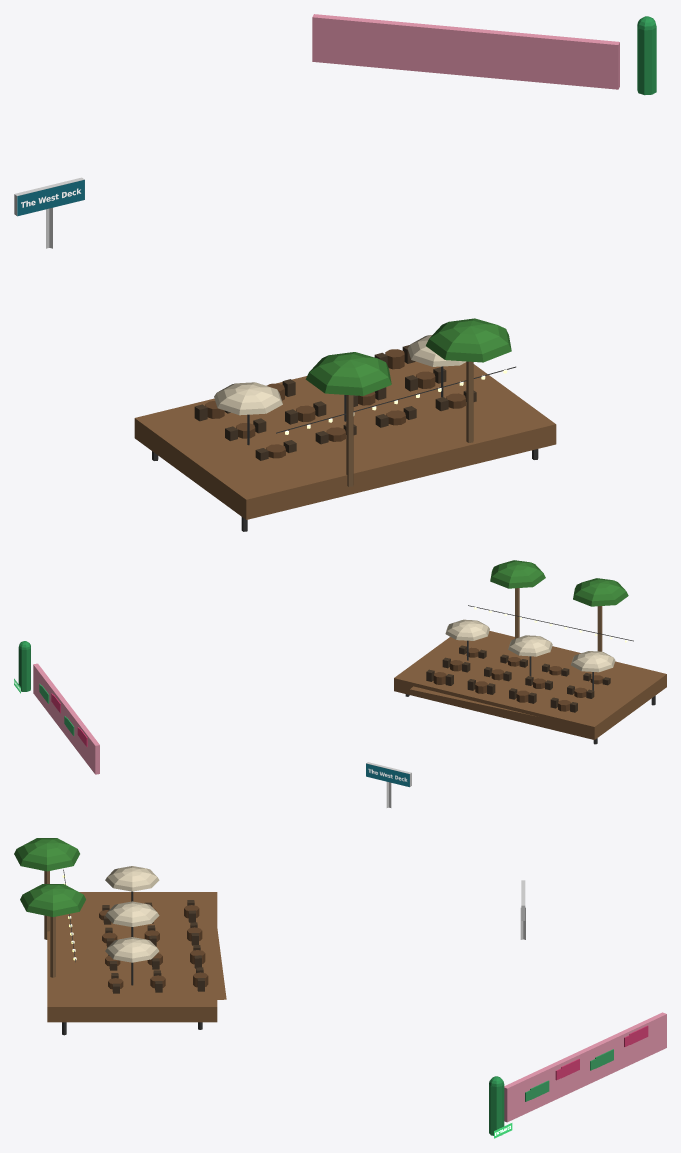
The model's file is westdeck.glb.
3 renders of one model, top to bottom at view 1: azimuth 30°, elevation 25°; view 2: azimuth 150°, elevation 25°; view 3: azimuth 270°, elevation 25°, orthographic. The views are drawn at different scales.
Visible parts, largest first — view 1: westdeck_lod0; view 2: westdeck_lod0; view 3: westdeck_lod0.
Boxes of the visible parts, <box> form: westdeck_lod0: <box>14,14,656,531</box>; westdeck_lod0: <box>14,560,666,807</box>; westdeck_lod0: <box>14,838,666,1138</box>.
Size of what is drawn, in the model's own units: 36.89 by 7.73 by 38.41.
Materials: 17 (2 with a texture image).
